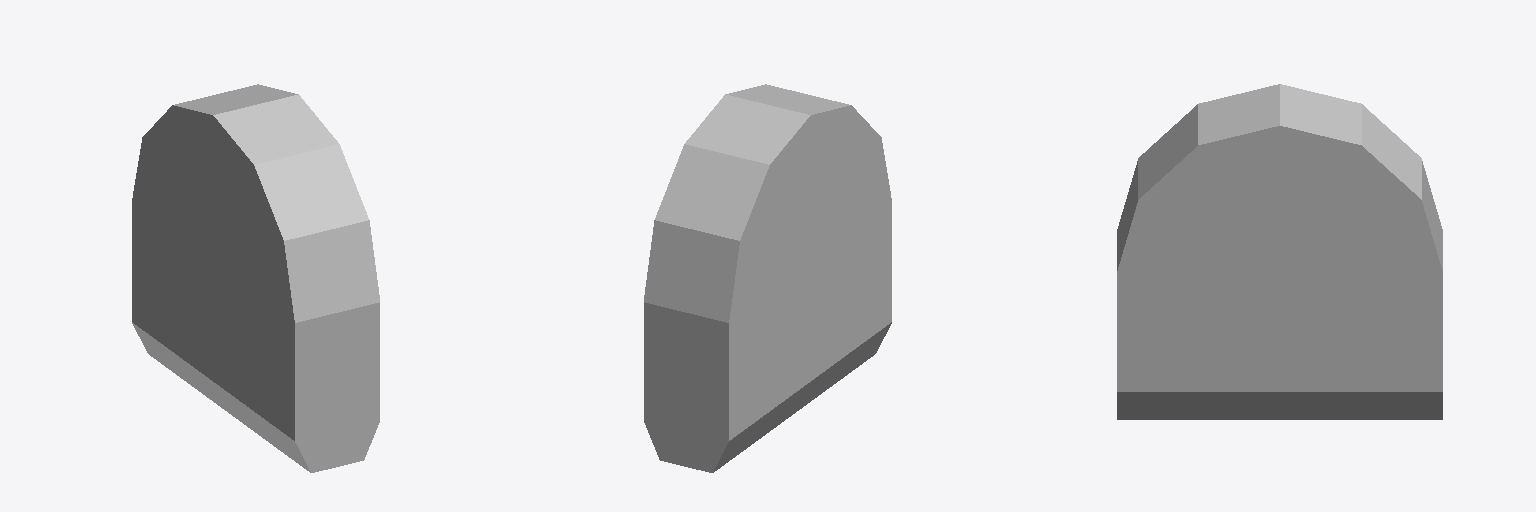
The model's file is Bipod2.obj.
3 views of the same model, side by side, from view 1: azimuth 30°, elevation 25°; view 2: azimuth 150°, elevation 25°; view 3: azimuth 270°, elevation 25° (orthographic).
Parts seen in each view (by area): view 1: Cube.019; view 2: Cube.019; view 3: Cube.019.
Part boxes in pixels (left/top/right/bottom): Cube.019: left=132, top=84, right=379, bottom=472; Cube.019: left=644, top=84, right=891, bottom=472; Cube.019: left=1117, top=84, right=1442, bottom=419.
Size of the model in its own units: 0.0219 by 0.0741 by 0.0726.